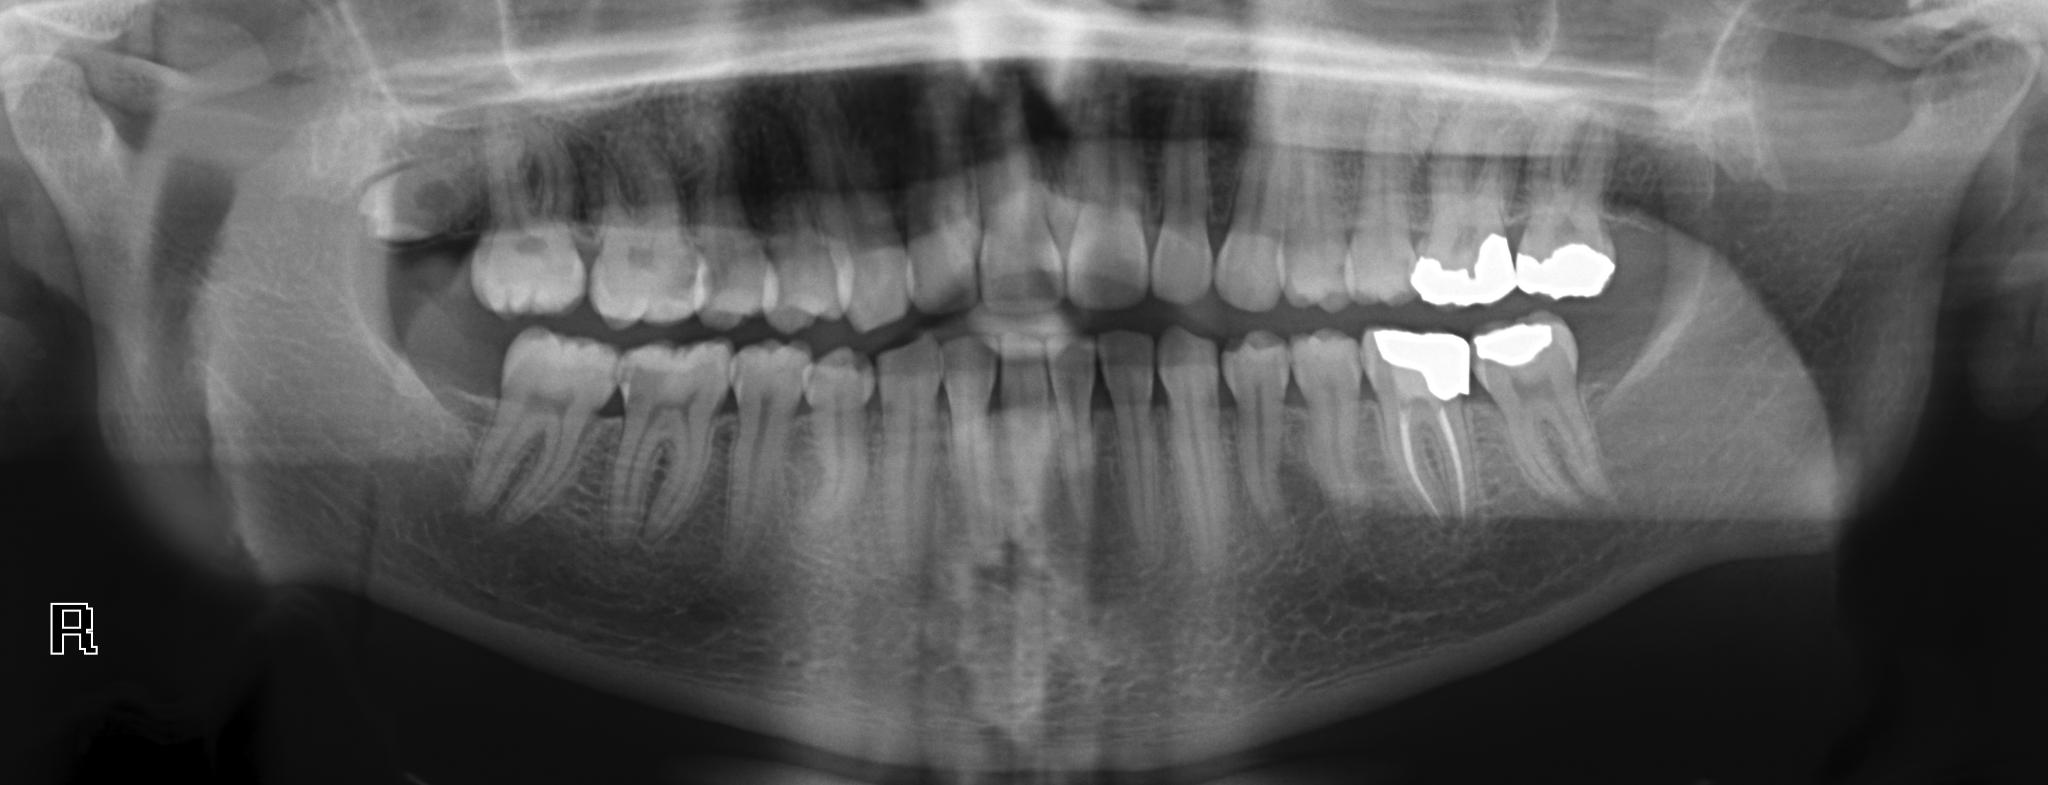fractura: (462, 325, 627, 520), (1475, 317, 1608, 508), (1408, 121, 1516, 307), (1511, 114, 1617, 303)
otra: (1357, 324, 1492, 534)
